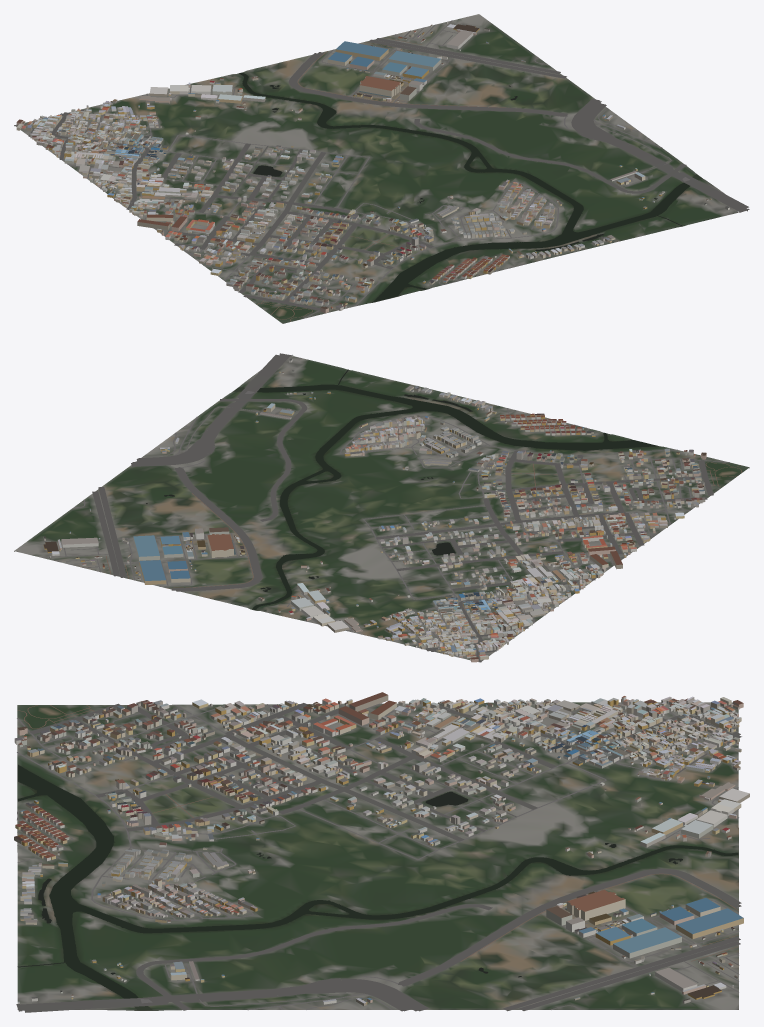
3 views of the same model, one above another, from view 1: azimuth 30°, elevation 25°; view 2: azimuth 150°, elevation 25°; view 3: azimuth 270°, elevation 25° (orthographic). The views are drawn at different scales.
Visible parts, largest first — view 1: ground, buildings, roads, water; view 2: ground, buildings, roads, water; view 3: ground, buildings, roads, water.
Boxes of the visible parts, <box> form: ground: <box>14,14,747,323</box>; buildings: <box>16,22,738,313</box>; roads: <box>14,20,749,321</box>; water: <box>238,72,702,302</box>; ground: <box>14,353,749,662</box>; buildings: <box>43,354,706,662</box>; roads: <box>41,353,742,662</box>; water: <box>146,369,658,610</box>; ground: <box>17,702,738,1010</box>; buildings: <box>14,692,749,1005</box>; roads: <box>16,703,741,1012</box>; water: <box>17,764,738,1010</box>.
Bounding box in the file's own units: 1442 × 26.32 × 1429.
